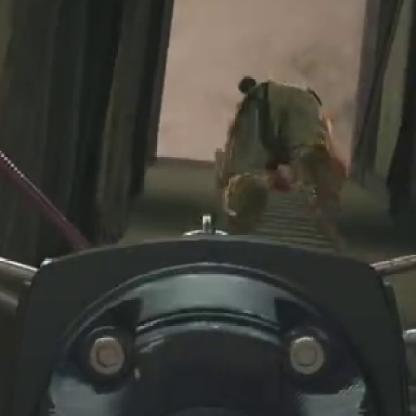enemy: (212, 73, 344, 236)
